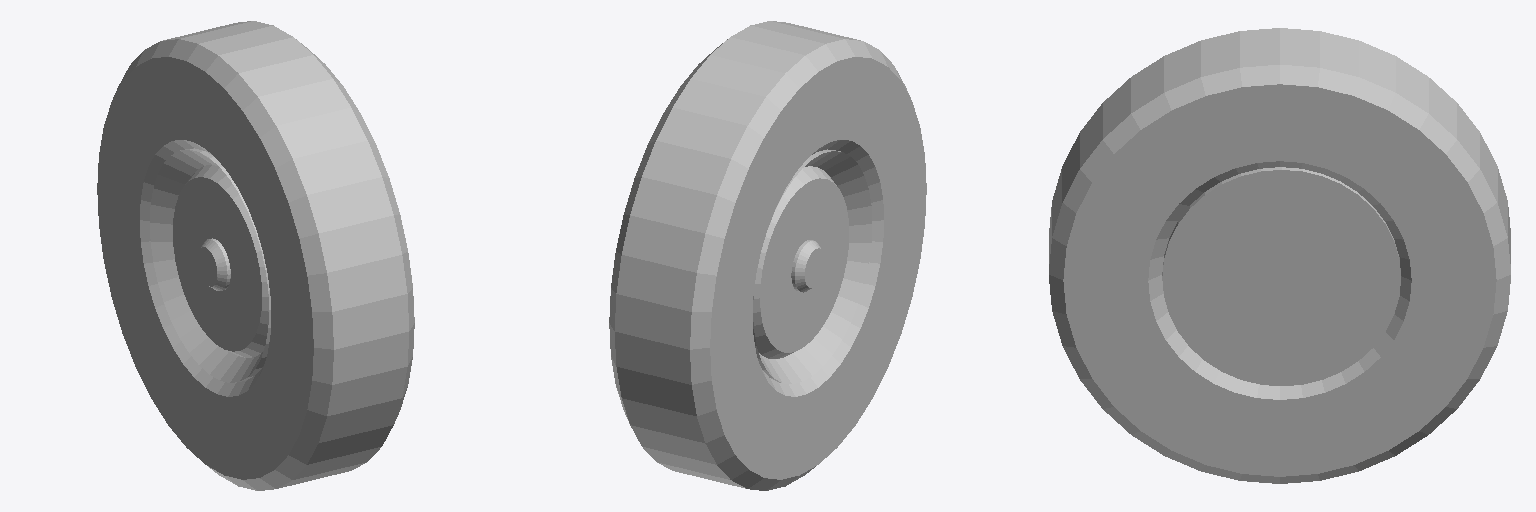
Rendered from backpos.obj.
3 views of the same model, side by side, from view 1: azimuth 30°, elevation 25°; view 2: azimuth 150°, elevation 25°; view 3: azimuth 270°, elevation 25° (orthographic).
Parts seen in each view (by area): view 1: Hatso_bal; view 2: Hatso_bal; view 3: Hatso_bal.
Part boxes in pixels (left/top/right/bottom): Hatso_bal: left=97, top=21, right=414, bottom=490; Hatso_bal: left=609, top=21, right=926, bottom=490; Hatso_bal: left=1049, top=28, right=1510, bottom=483.
Size of the model in its own units: 0.1875 by 0.7451 by 0.7451.